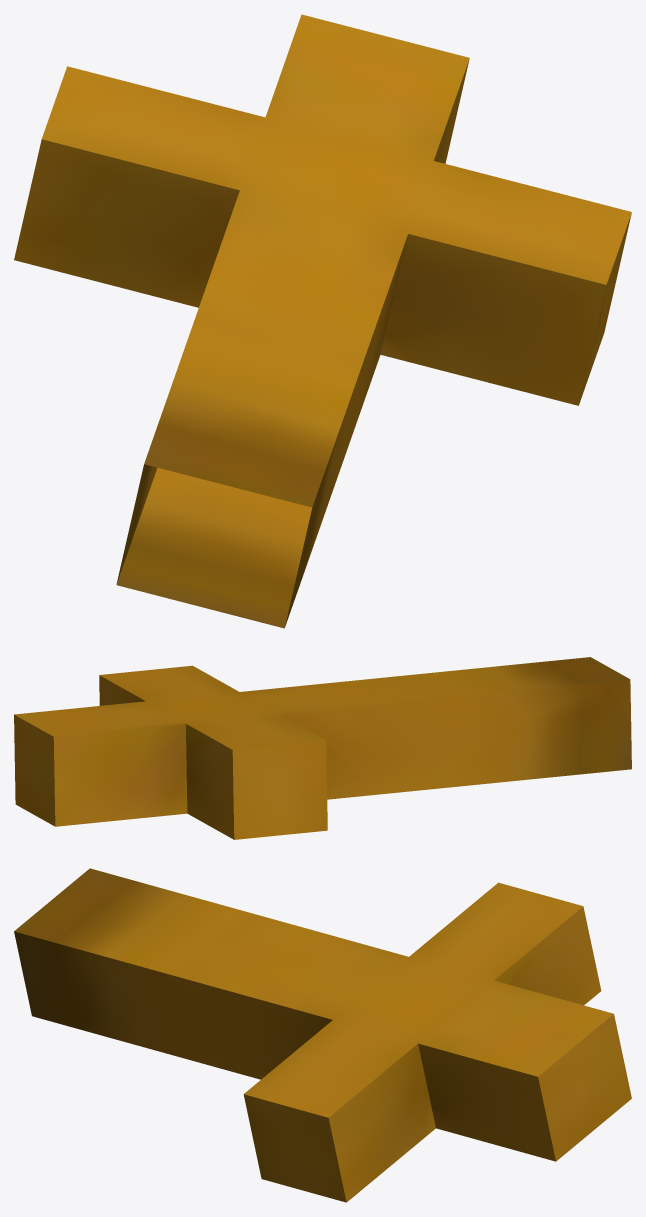
The model's file is cross.obj.
3 renders of one model, top to bottom at view 1: azimuth 30°, elevation 25°; view 2: azimuth 150°, elevation 25°; view 3: azimuth 270°, elevation 25°, orthographic. The views are drawn at different scales.
Visible parts, largest first — view 1: dynamic; view 2: dynamic; view 3: dynamic.
Boxes of the visible parts, x1=… form: dynamic: x1=14, y1=14, x2=631, y2=628; dynamic: x1=14, y1=657, x2=631, y2=839; dynamic: x1=14, y1=868, x2=631, y2=1202.
Size of the model in its own units: 0.5726 by 0.199 by 0.6418.
1 material, 1 textured.
